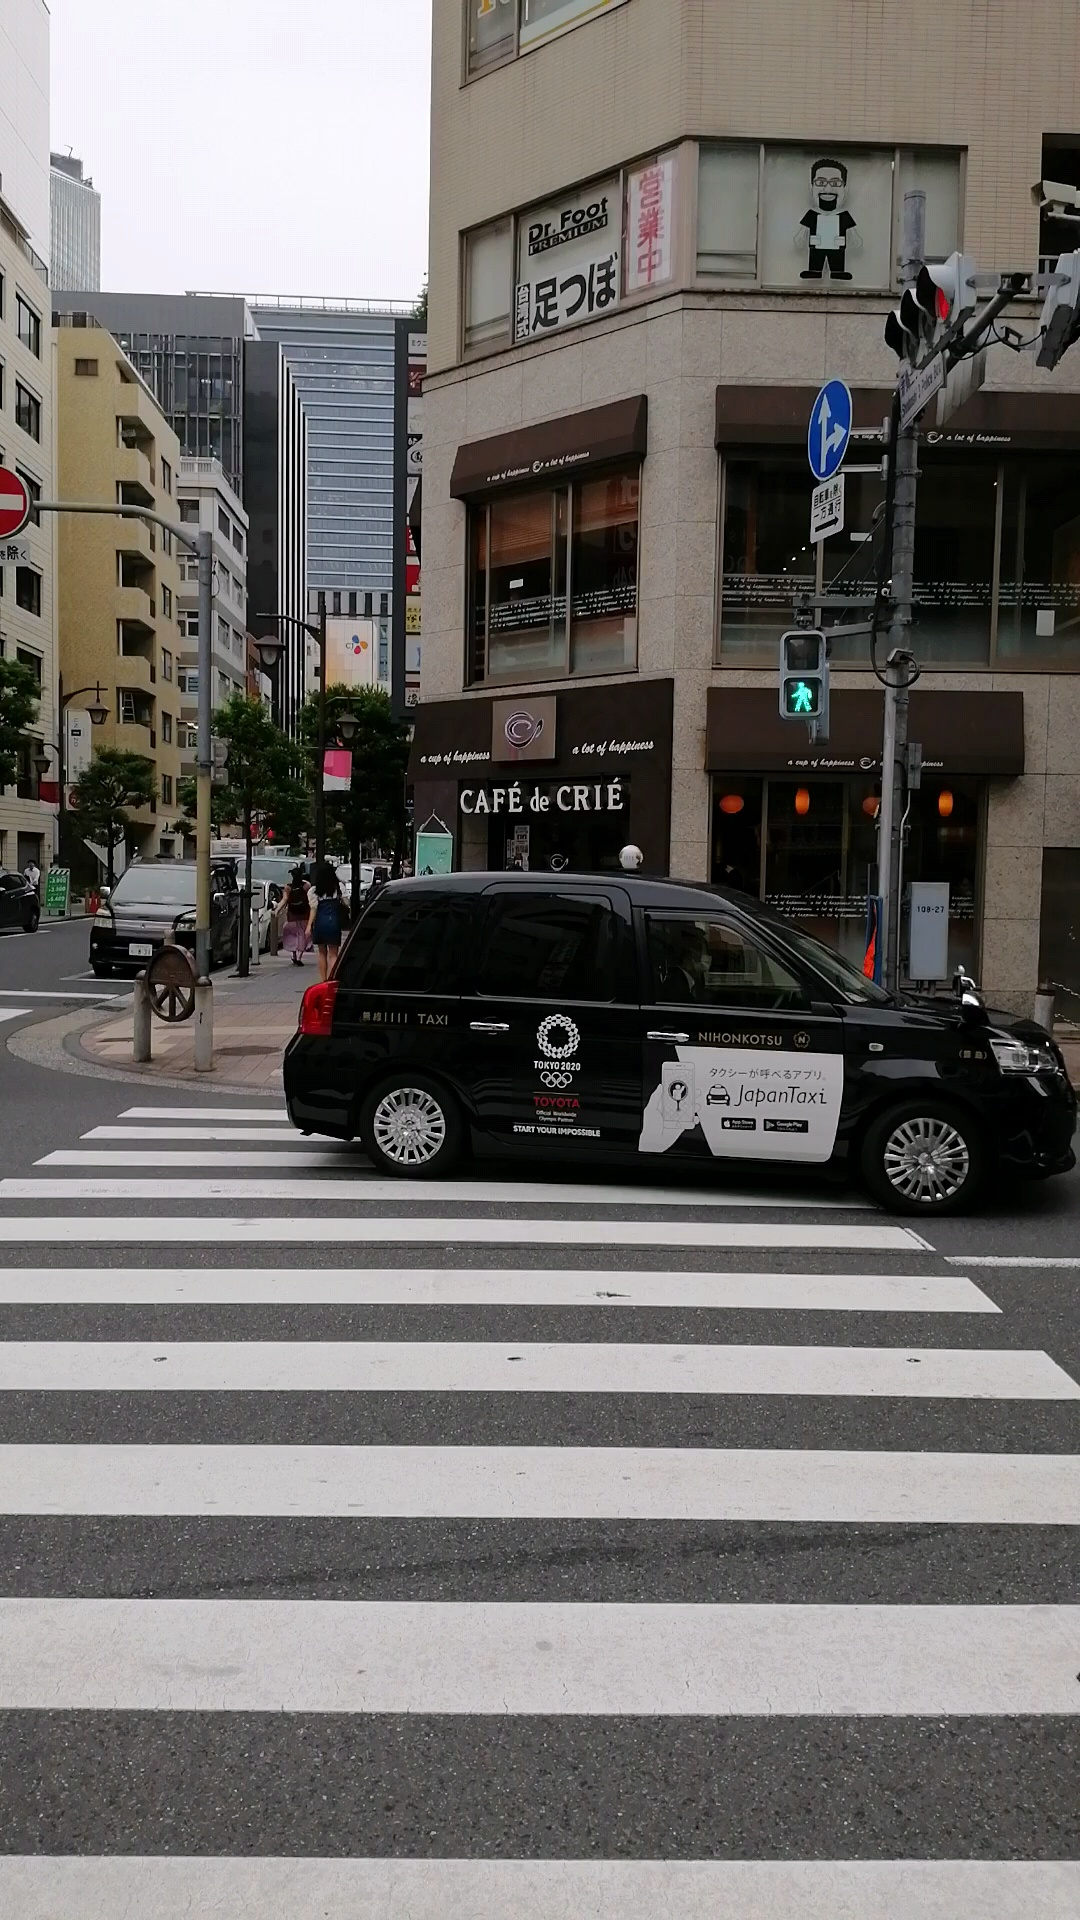green: (778, 632, 825, 727)
